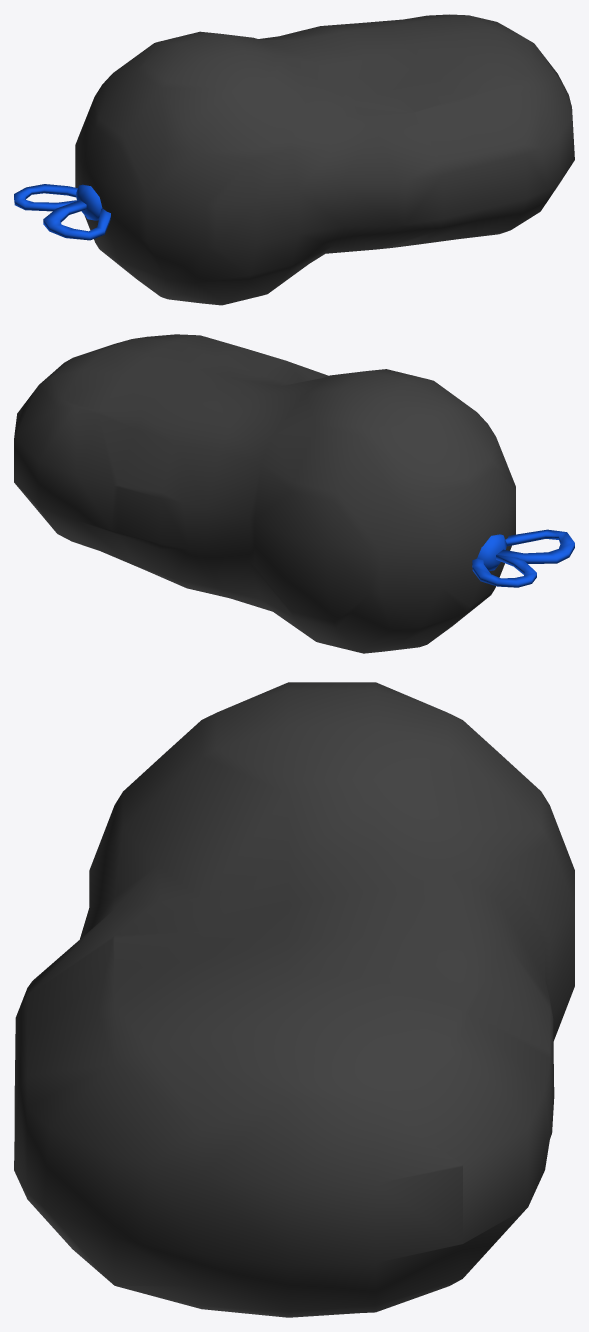
Rendered from Bagged Corpse 3.fbx.
3 renders of one model, top to bottom at view 1: azimuth 30°, elevation 25°; view 2: azimuth 150°, elevation 25°; view 3: azimuth 270°, elevation 25°, orthographic. The views are drawn at different scales.
Parts seen in each view (by area): view 1: Mball, Tie; view 2: Mball, Tie; view 3: Mball.
Part boxes in pixels (box(x1,y1,x2,y2)): Mball: box(75, 14, 574, 305); Tie: box(14, 184, 110, 240); Mball: box(14, 334, 515, 653); Tie: box(472, 529, 574, 587); Mball: box(14, 682, 574, 1317).
Size of the model in its own units: 117 by 53.05 by 61.29.
